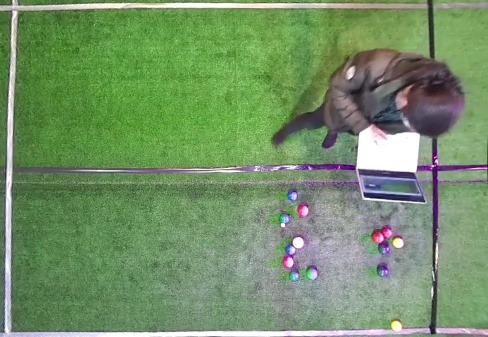blue: (287, 190, 298, 201), (285, 245, 296, 255)
green: (306, 267, 318, 280), (377, 265, 389, 277), (378, 243, 390, 255), (279, 213, 291, 224), (289, 271, 300, 282)
red: (371, 231, 384, 244), (292, 237, 305, 249), (297, 204, 309, 217), (282, 256, 294, 268), (381, 227, 393, 239)
vline: (431, 138, 487, 336), (0, 0, 20, 336), (427, 0, 487, 61)
white: (281, 223, 285, 227)
yellow: (392, 238, 404, 249), (391, 321, 402, 332)
